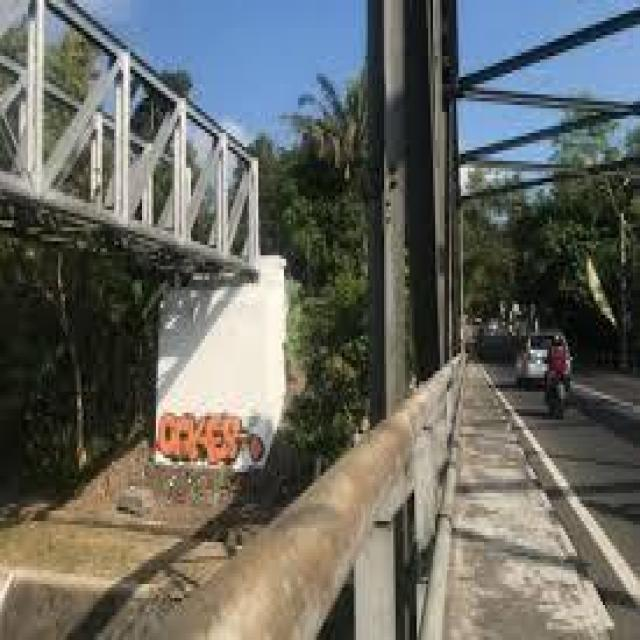nonspitting: (156, 409, 266, 468)
